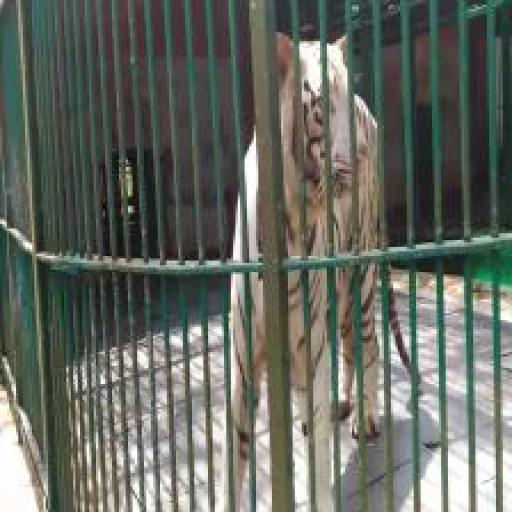Tiger: (208, 7, 425, 512)
